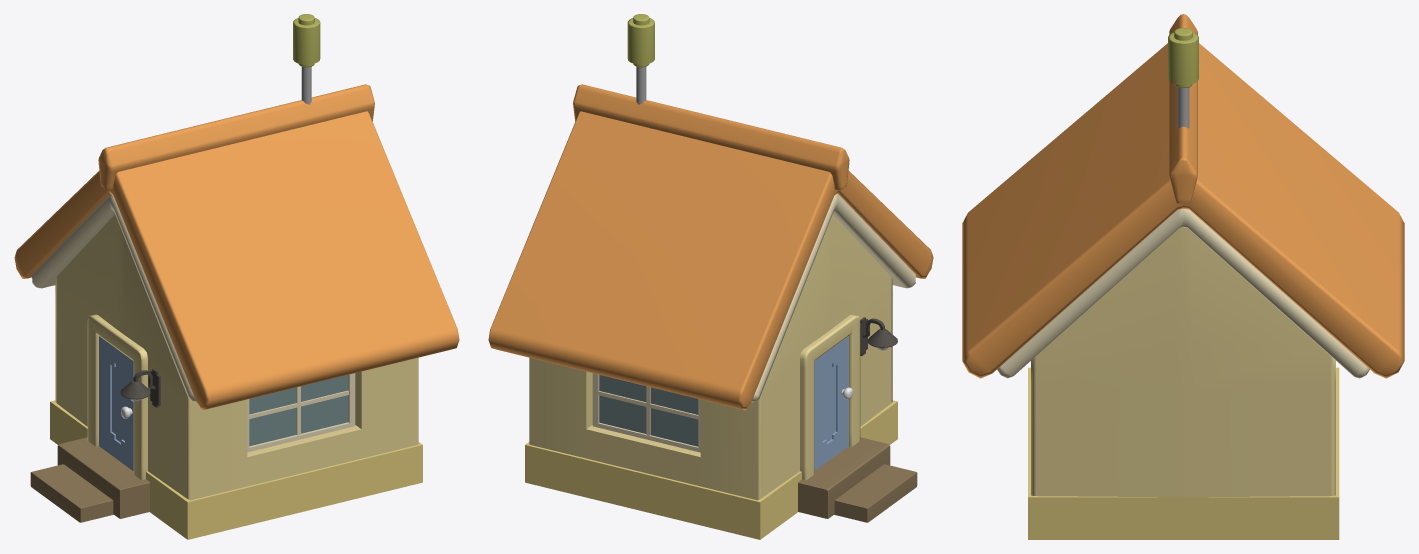
Rendered from house.fbx.
3 views of the same model, side by side, from view 1: azimuth 30°, elevation 25°; view 2: azimuth 150°, elevation 25°; view 3: azimuth 270°, elevation 25° (orthographic). The views are drawn at different scales.
Parts seen in each view (by area): view 1: yane_sita1, ie_dodai, pCube1, yane_tyouten, garasu_1, door_waku, pCube7, door, yane_sita, pCube8, sikakumado_waku, pCube3; view 2: yane_sita1, ie_dodai, pCube1, yane_tyouten, garasu_2, door_waku, door, pCube7, yane_sita, pCube8, sikakumado_waku_2, pCube3; view 3: yane_sita1, ie_dodai, pCube1, yane_sita, yane_tyouten, pCube3, pCube2.
Part boxes in pixels (x1,y1,x2,y2): yane_sita1: (14, 111, 459, 410); ie_dodai: (55, 214, 418, 500); pCube1: (50, 400, 422, 539); yane_tyouten: (98, 84, 374, 190); garasu_1: (249, 375, 348, 446); door_waku: (87, 314, 147, 480); pCube7: (57, 437, 149, 518); door: (99, 336, 133, 470); yane_sita: (32, 194, 196, 402); pCube8: (30, 464, 113, 522); sikakumado_waku: (247, 373, 355, 452); pCube3: (293, 18, 320, 64); yane_sita1: (488, 111, 933, 410); ie_dodai: (529, 214, 892, 500); pCube1: (525, 400, 897, 539); yane_tyouten: (573, 84, 849, 190); garasu_2: (599, 375, 698, 446); door_waku: (800, 314, 860, 480); door: (814, 336, 848, 470); pCube7: (798, 437, 890, 518); yane_sita: (751, 194, 915, 402); pCube8: (834, 464, 917, 522); sikakumado_waku_2: (592, 373, 700, 452); pCube3: (627, 18, 654, 64); yane_sita1: (962, 43, 1404, 378); ie_dodai: (1031, 227, 1335, 497); pCube1: (1028, 367, 1339, 539); yane_sita: (997, 209, 1369, 378); yane_tyouten: (1169, 14, 1197, 203); pCube3: (1168, 32, 1198, 85); pCube2: (1177, 87, 1189, 128).
Size of the model in its own units: 8.76 by 11.34 by 9.42.
